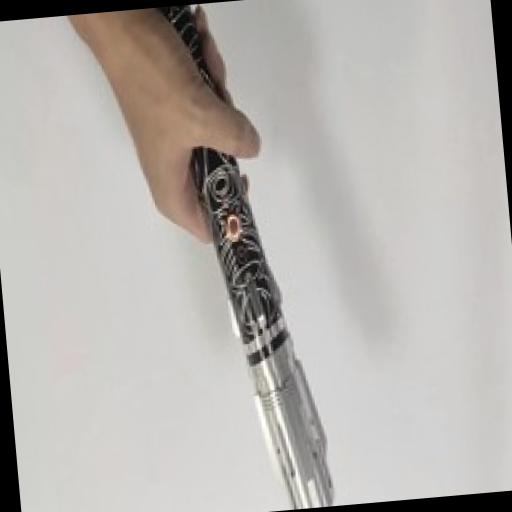lightsaber: (159, 0, 342, 512)
